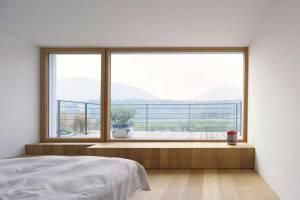window: (39, 46, 247, 141)
